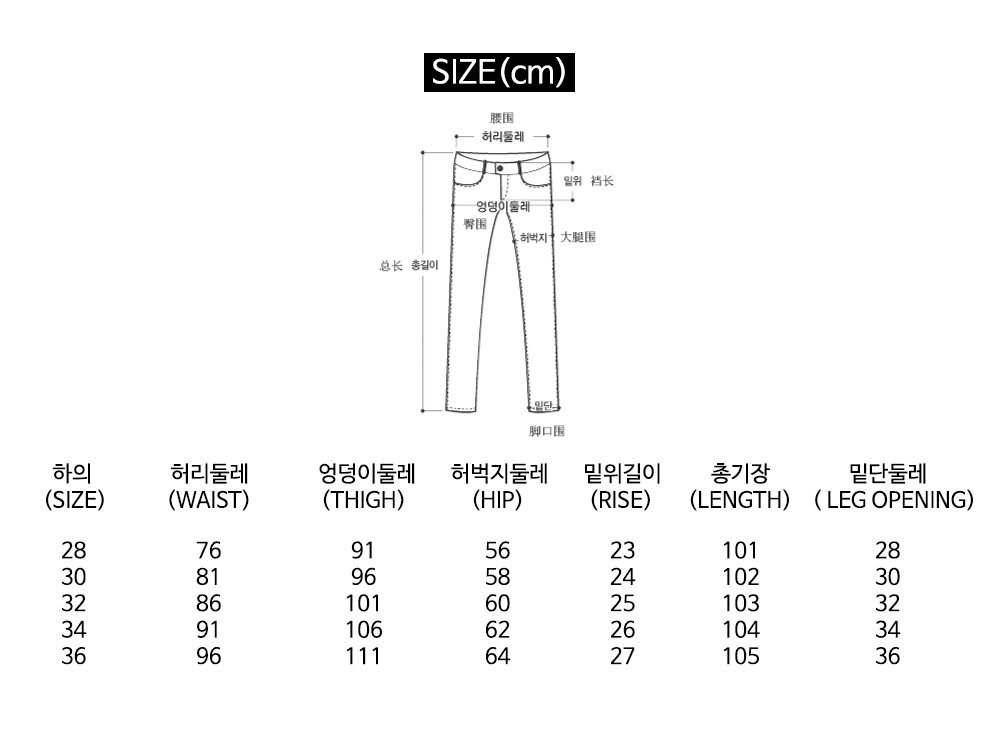table: (46, 461, 982, 690)
